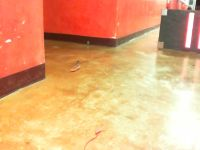switch: (184, 13, 194, 48)
